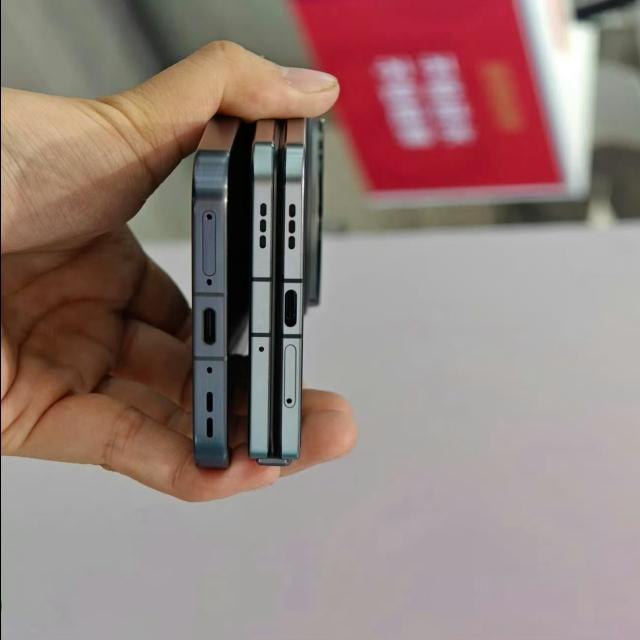mobile_phone: (172, 91, 389, 529)
